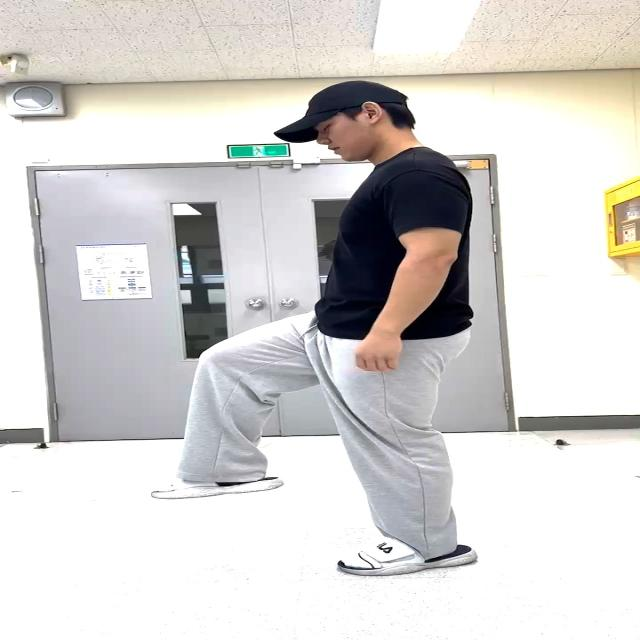leg: (146, 324, 311, 496)
